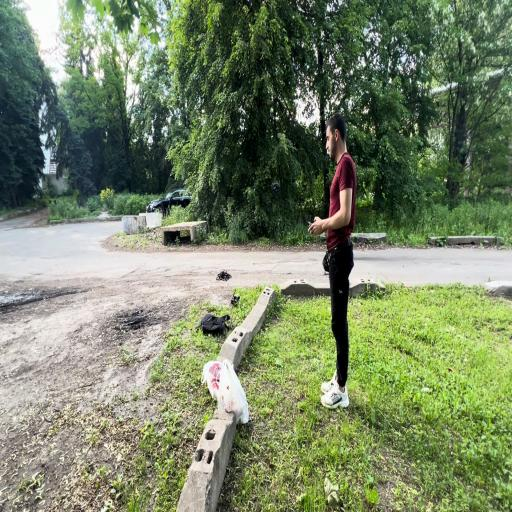drone: (216, 269, 231, 281)
